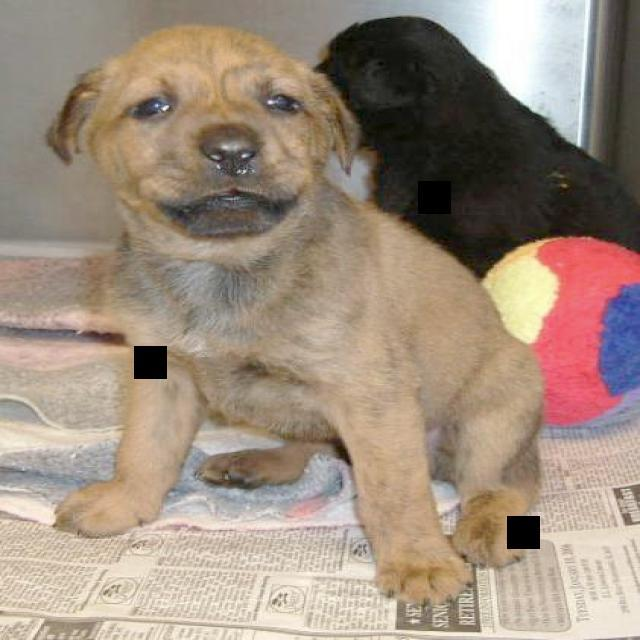puppy-dog: (51, 27, 549, 609), (309, 16, 640, 277)
